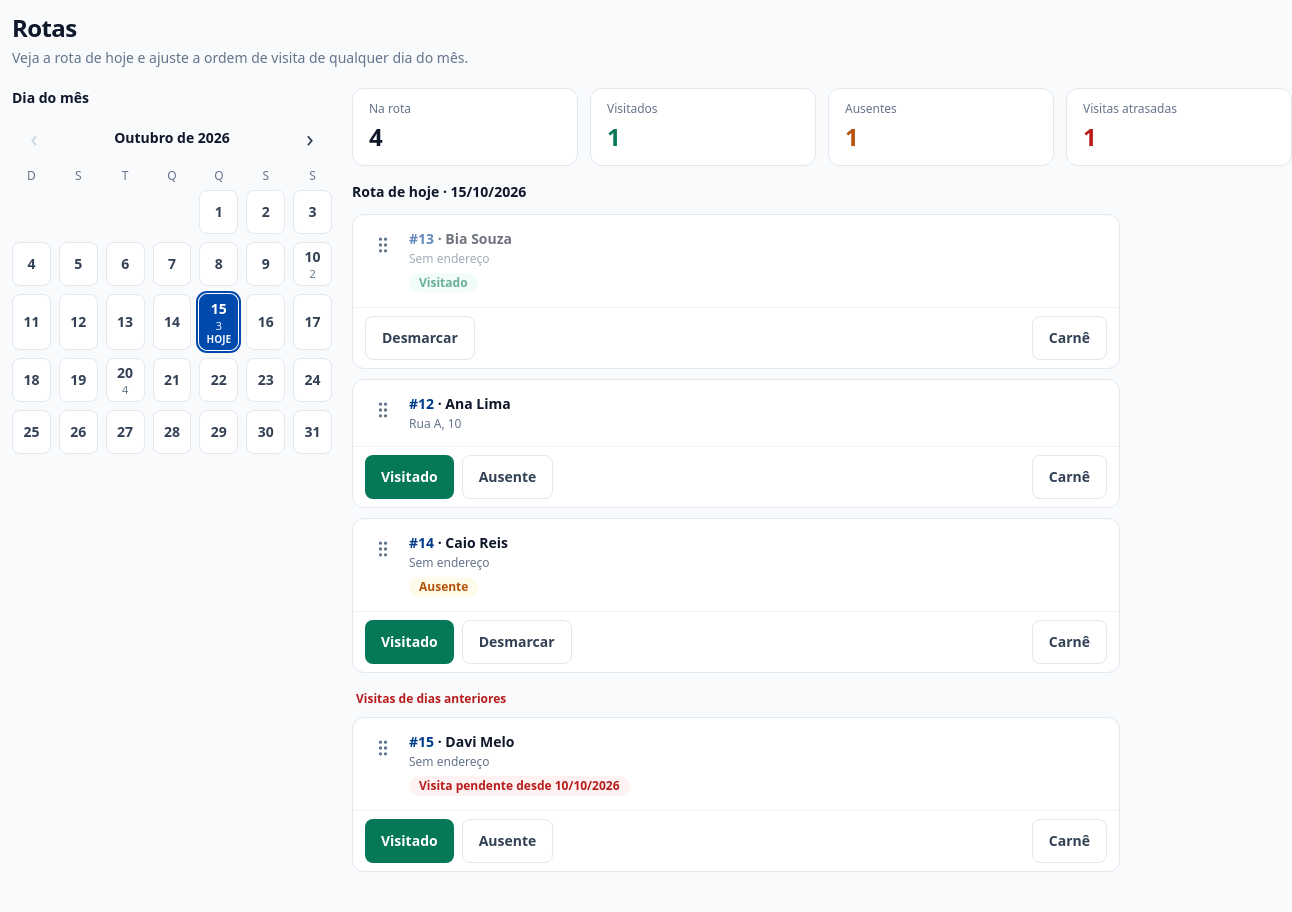
Test: RotasPage — próxima cobrança (E7) › no calendário, a cobrança aparece em "Cobranças marcadas", depois da lista arrastável e sem alça
Click the button named "20 de outubro, 4 clientes": x=125, y=380 [106,358,145,402]
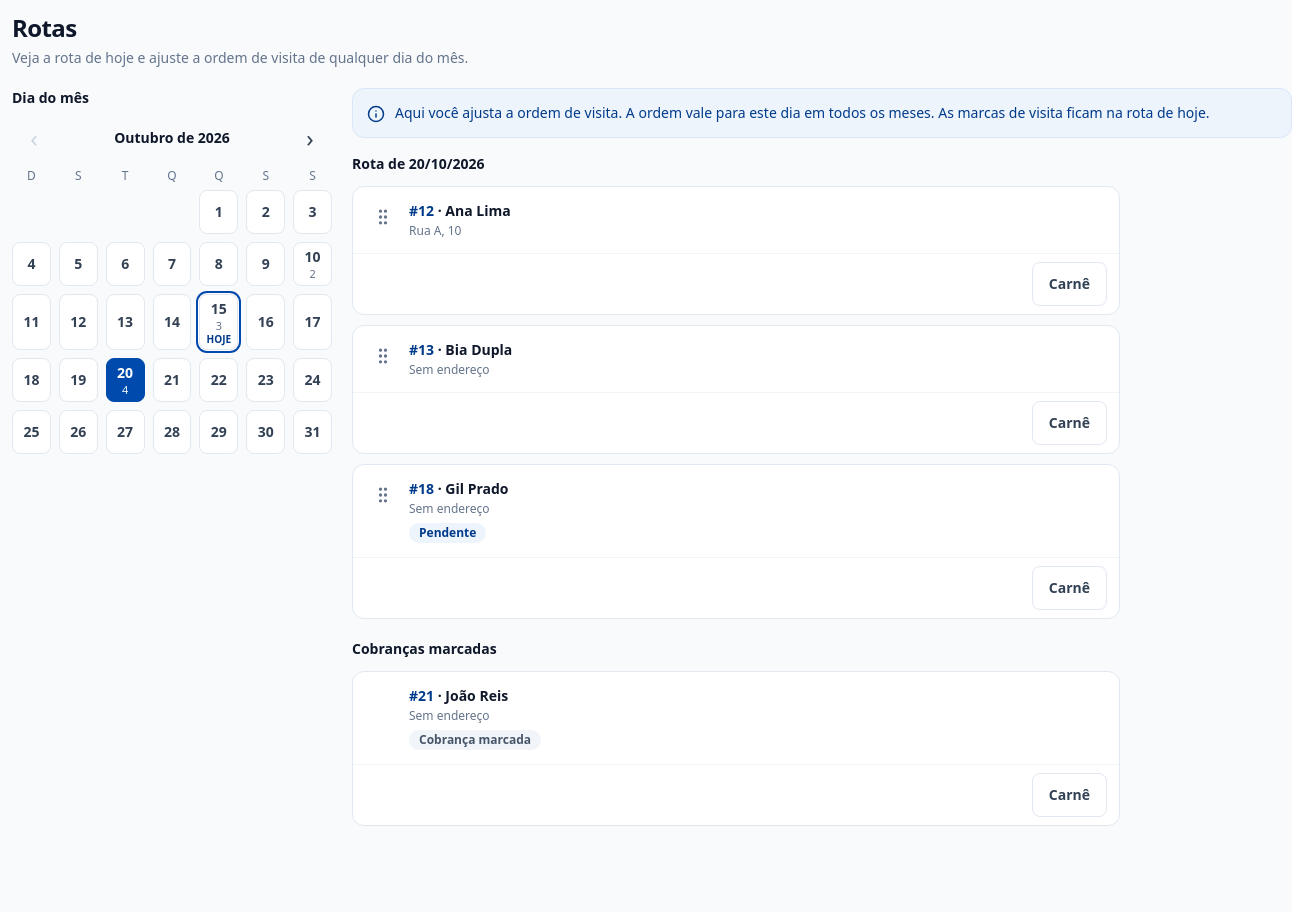
Result: the text "Cobrança marcada" is shown at [409,730,541,750]
Result: the button named "Arrastar Ana Lima" is shown at [361,195,405,239]
